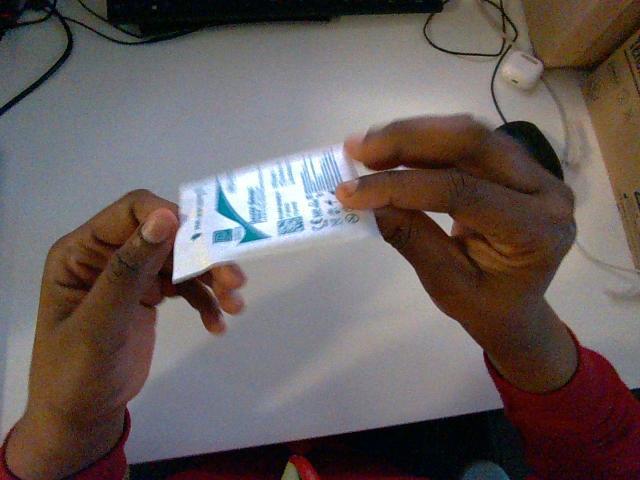gauze: (173, 145, 378, 282)
